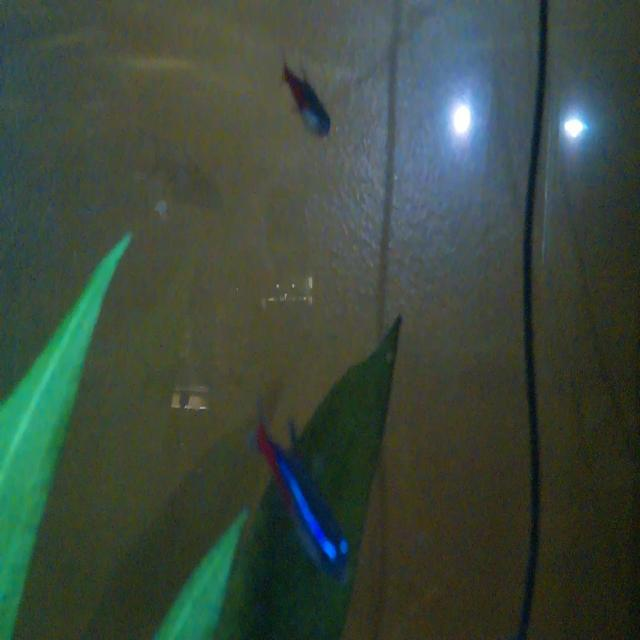fish: (228, 393, 358, 579), (266, 43, 339, 149)
